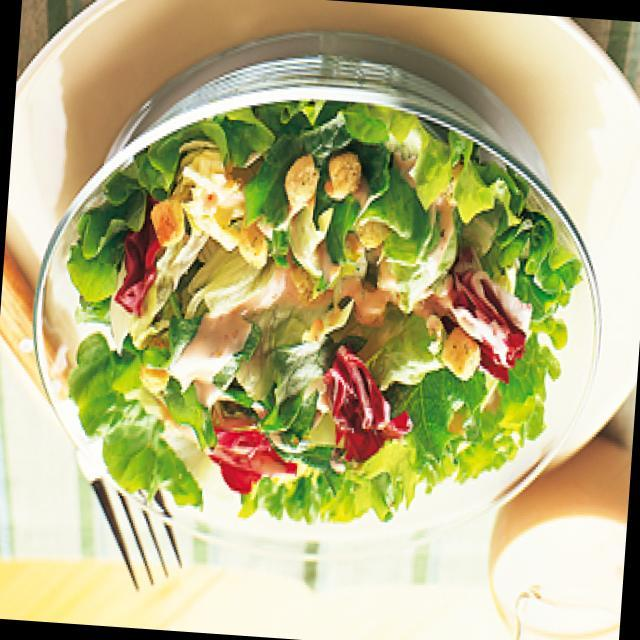Green Salad: (47, 101, 564, 534)
